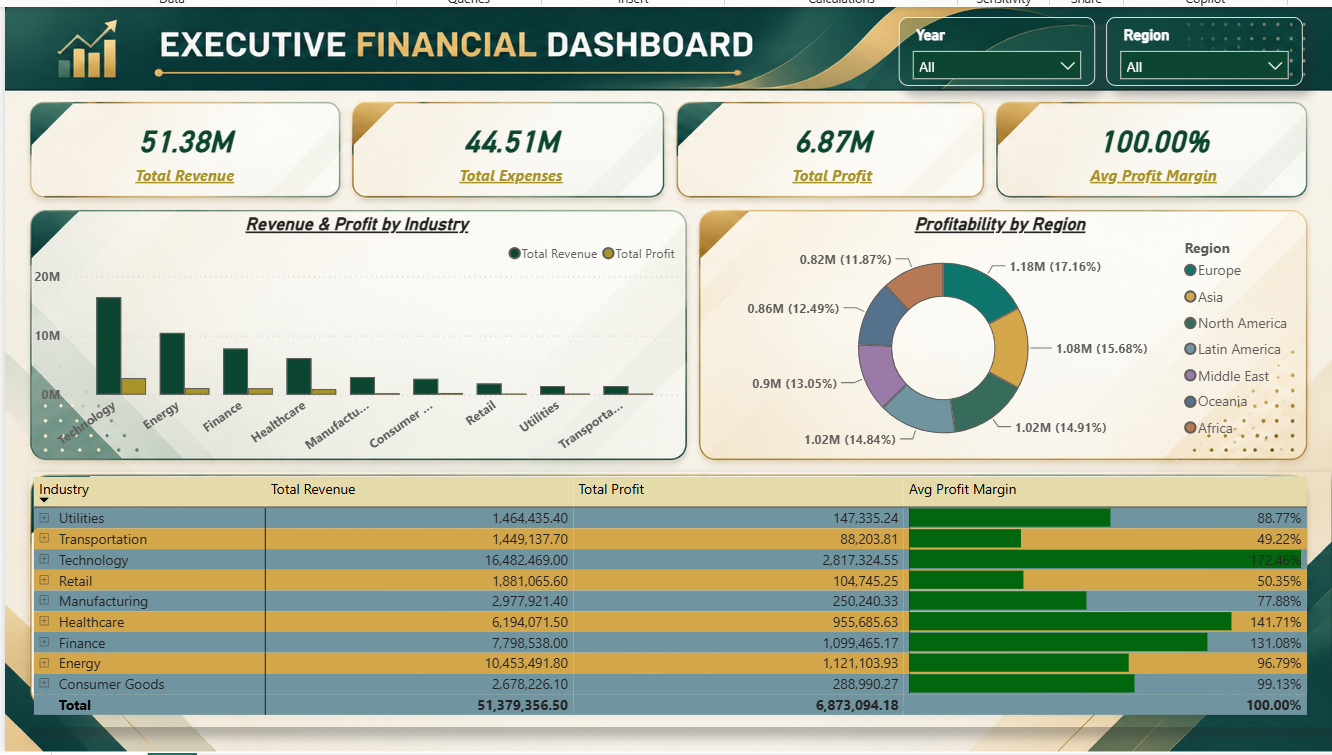

This screenshot's page, from the dashboard's own definition file:
{"tool":"powerbi","page":{"name":"Page 1","canvas":[1280,720],"ordinal":0},"visuals":[{"type":"slicer","fields":{"Values":["Cleaned_Business_Performance.Year"]},"box":[862.6,9.7,189.4,66.4],"z":0},{"type":"slicer","fields":{"Values":["Cleaned_Business_Performance.Region"]},"box":[1062.9,9.7,189.4,66.4],"z":1000},{"type":"card","fields":{"Values":["Cleaned_Business_Performance.Total Revenue"]},"box":[22.9,91.7,301.6,92.9],"z":2000},{"type":"card","fields":{"Values":["Cleaned_Business_Performance.Total Expenses"]},"box":[337.8,91.7,301.6,92.9],"z":3000},{"type":"card","fields":{"Values":["Cleaned_Business_Performance.Total Profit"]},"box":[647.9,91.7,301.6,92.9],"z":4000},{"type":"card","fields":{"Values":["Cleaned_Business_Performance.Avg Profit Margin"]},"box":[957.9,91.7,301.6,92.9],"z":5000},{"type":"clusteredColumnChart","title":" Revenue & Profit by Industry","fields":{"Category":["Cleaned_Business_Performance.Industry"],"Y":["Cleaned_Business_Performance.Total Revenue","Cleaned_Business_Performance.Total Profit"]},"box":[22.9,199.1,633.4,241.3],"z":6000},{"type":"donutChart","title":"Profitability by Region","fields":{"Category":["Cleaned_Business_Performance.Region"],"Y":["Cleaned_Business_Performance.Total Profit"]},"box":[668.4,199.1,583.9,241.3],"z":7000},{"type":"pivotTable","fields":{"Rows":["Cleaned_Business_Performance.Industry","Cleaned_Business_Performance.Region"],"Values":["Cleaned_Business_Performance.Total Revenue","Cleaned_Business_Performance.Total Profit","Cleaned_Business_Performance.Avg Profit Margin"]},"box":[22.9,448.8,1257.1,246.1],"z":8000}]}

Visuals, with their boxes on the page's 1280x720 design canvas (x1, y1, x2, y2). These are canvas units, not pixel positions in the 1332x755 screenshot, which may show the page scaled, cropped or inside an application window:
slicer - Cleaned_Business_Performance.Year: {"x1": 863, "y1": 10, "x2": 1052, "y2": 76}
slicer - Cleaned_Business_Performance.Region: {"x1": 1063, "y1": 10, "x2": 1252, "y2": 76}
card - Cleaned_Business_Performance.Total Revenue: {"x1": 23, "y1": 92, "x2": 324, "y2": 185}
card - Cleaned_Business_Performance.Total Expenses: {"x1": 338, "y1": 92, "x2": 639, "y2": 185}
card - Cleaned_Business_Performance.Total Profit: {"x1": 648, "y1": 92, "x2": 950, "y2": 185}
card - Cleaned_Business_Performance.Avg Profit Margin: {"x1": 958, "y1": 92, "x2": 1260, "y2": 185}
" Revenue & Profit by Industry" clusteredColumnChart: {"x1": 23, "y1": 199, "x2": 656, "y2": 440}
"Profitability by Region" donutChart: {"x1": 668, "y1": 199, "x2": 1252, "y2": 440}
pivotTable - Cleaned_Business_Performance.Industry x Cleaned_Business_Performance.Region: {"x1": 23, "y1": 449, "x2": 1280, "y2": 695}
